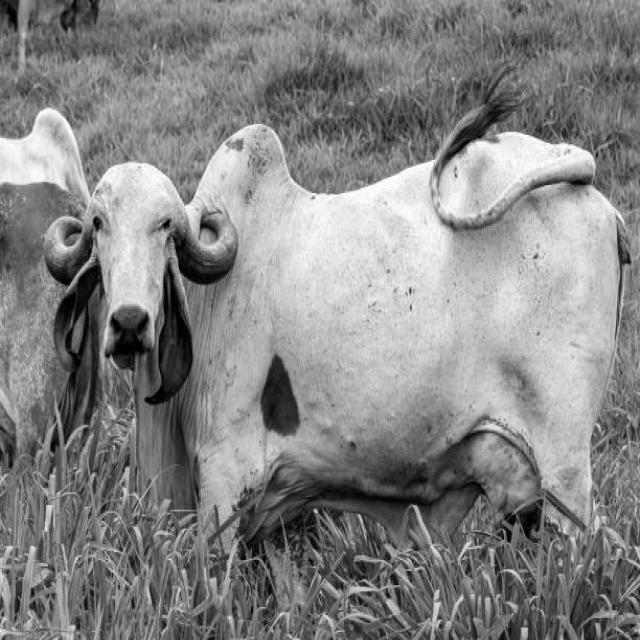Cow: (43, 60, 632, 624)
